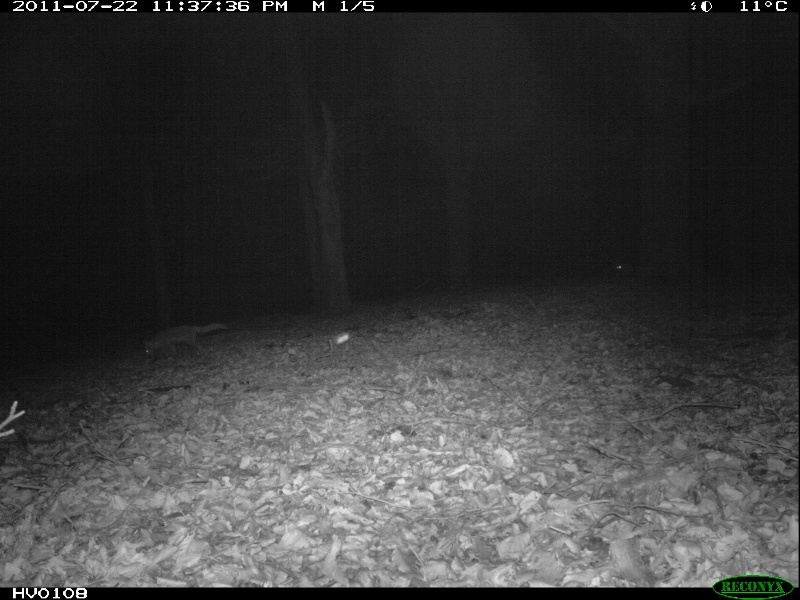fox: (142, 325, 232, 357), (610, 253, 638, 282)
